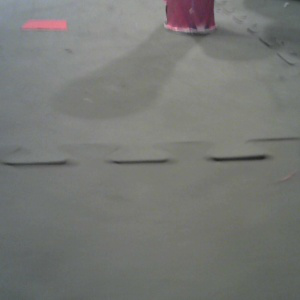right: (163, 1, 220, 33)
